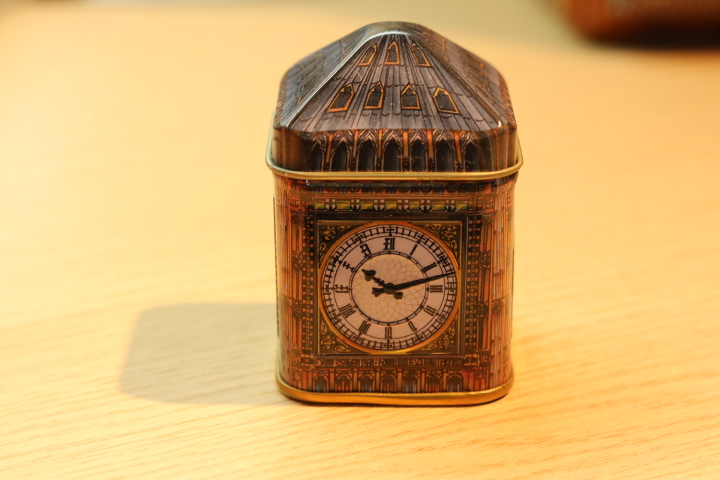Big Ben: (251, 13, 550, 423)
